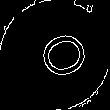O_SW: (23, 25, 87, 85)
